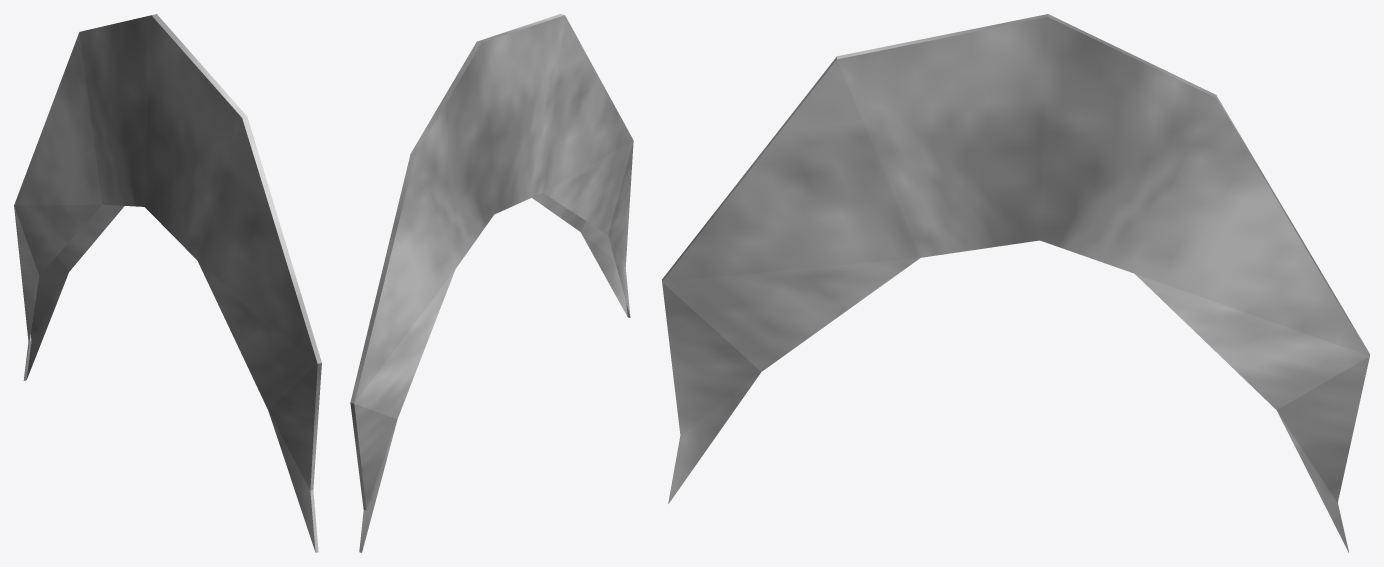
The model's file is helmet_morrion_f.dae.
3 renders of one model, left to right at view 1: azimuth 30°, elevation 25°; view 2: azimuth 150°, elevation 25°; view 3: azimuth 270°, elevation 25°, orthographic. The views are drawn at different scales.
Visible parts, largest first — view 1: helmet_morrion_f; view 2: helmet_morrion_f; view 3: helmet_morrion_f.
Boxes of the visible parts, bbox=[...] form: helmet_morrion_f: bbox=[14, 14, 321, 552]; helmet_morrion_f: bbox=[350, 14, 633, 552]; helmet_morrion_f: bbox=[662, 14, 1369, 552].
Bounding box in the file's own units: 0.0261 × 0.5298 × 0.4431.
